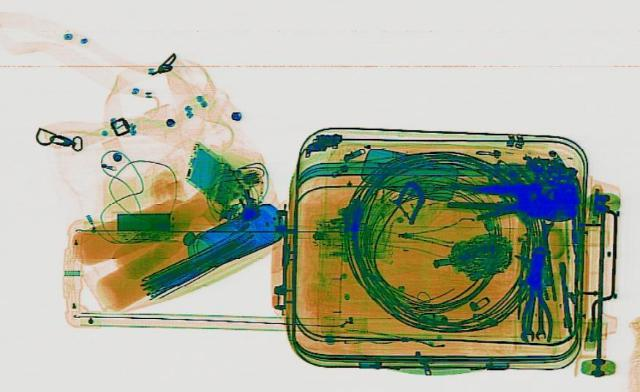Pliers: (518, 260, 554, 341)
Wrench: (518, 307, 536, 337), (535, 308, 545, 337)
